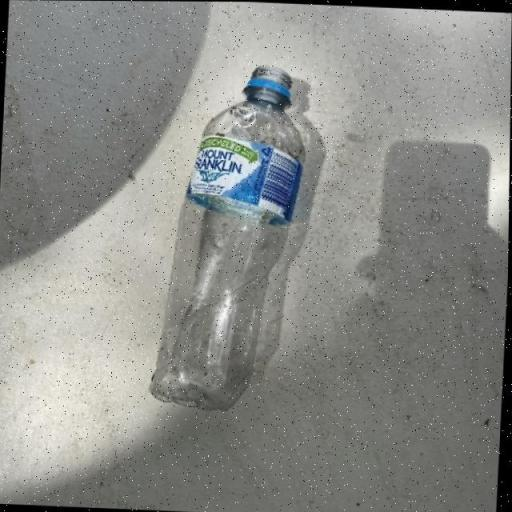plastic: (147, 58, 310, 414)
